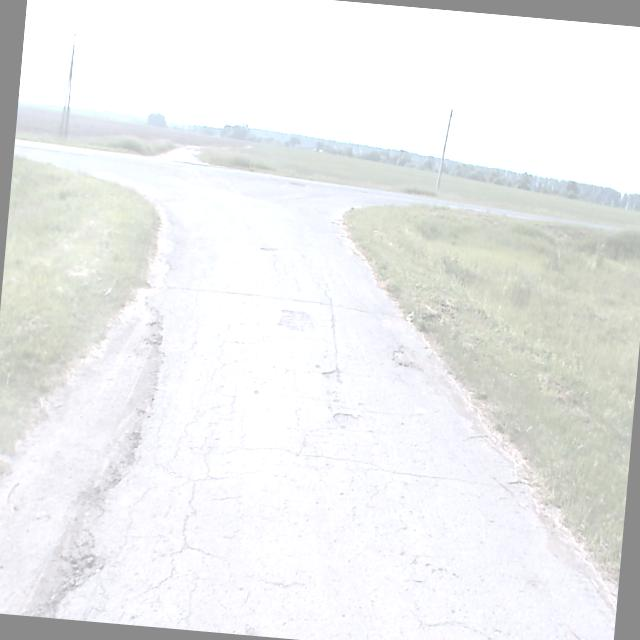road: (14, 140, 620, 640)
